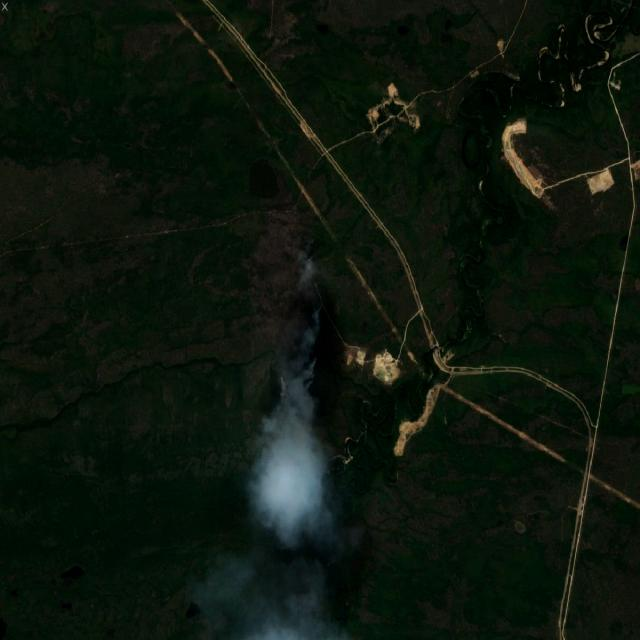fire: (268, 226, 327, 406)
